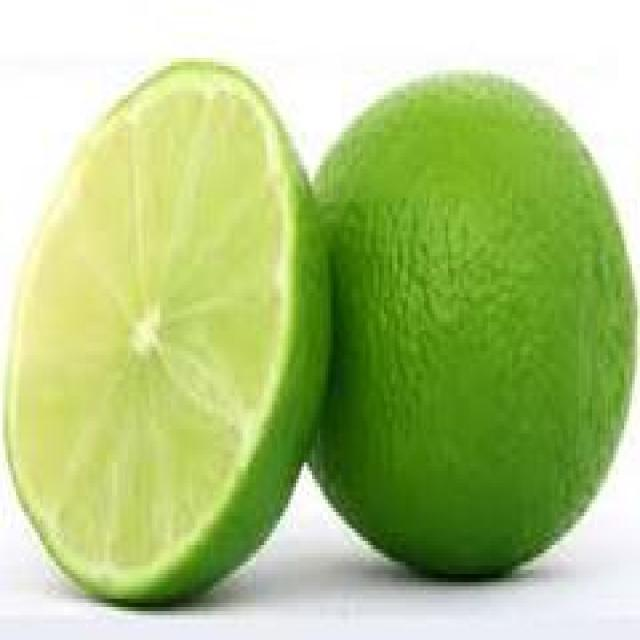lemon: (3, 41, 637, 595)
